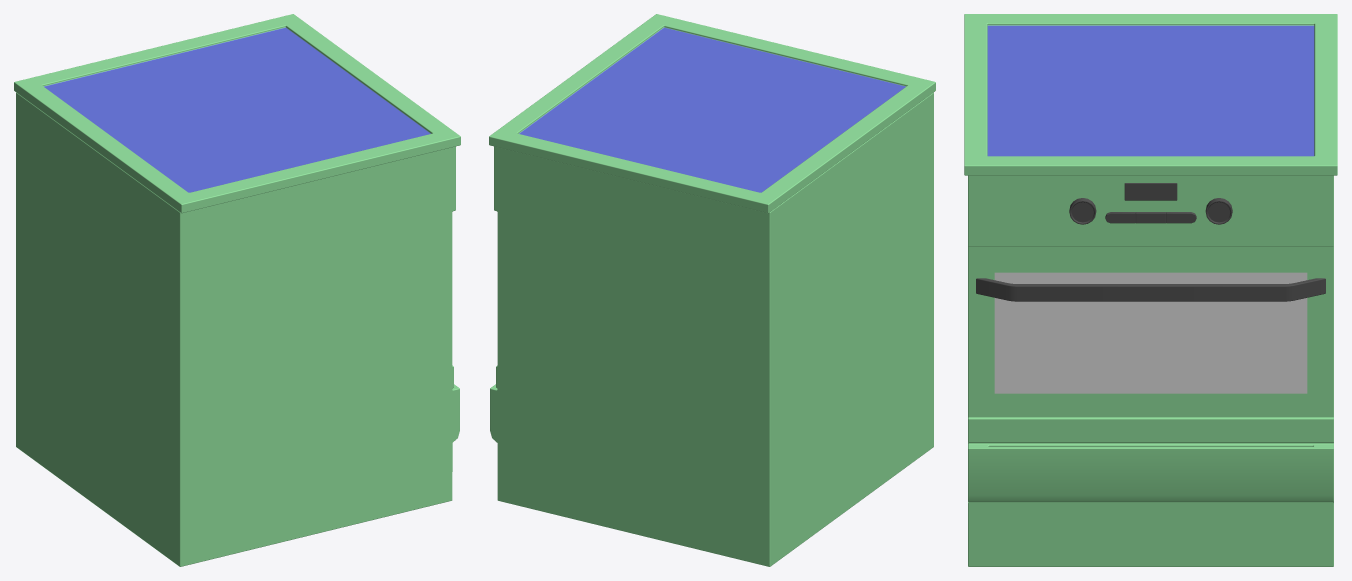
Rendered from cooker.fbx.
3 views of the same model, side by side, from view 1: azimuth 30°, elevation 25°; view 2: azimuth 150°, elevation 25°; view 3: azimuth 270°, elevation 25° (orthographic). The views are drawn at different scales.
Visible parts, largest first — view 1: Cube.019; view 2: Cube.019; view 3: Cube.019, Cube.022.
Boxes of the visible parts, <box> form: Cube.019: <box>14,14,460,566</box>; Cube.019: <box>489,14,935,566</box>; Cube.019: <box>964,14,1337,566</box>; Cube.022: <box>976,183,1325,301</box>.
Size of the model in its own units: 78.1 by 94.59 by 78.97.
